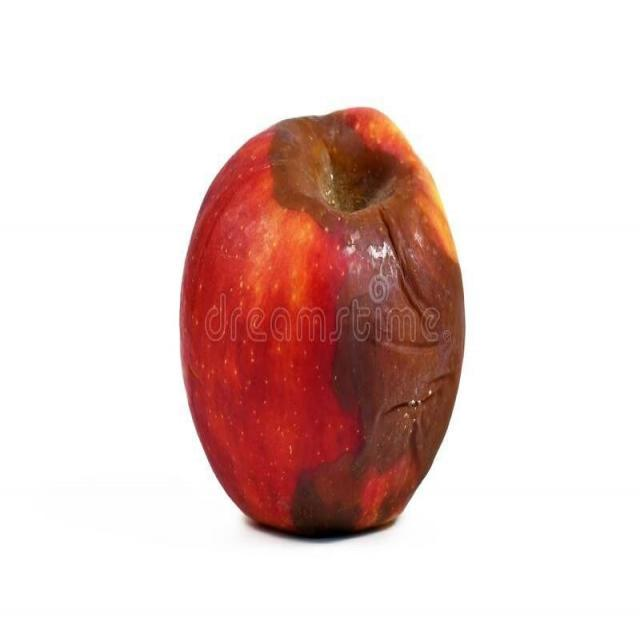Rotten: (172, 122, 474, 536)
